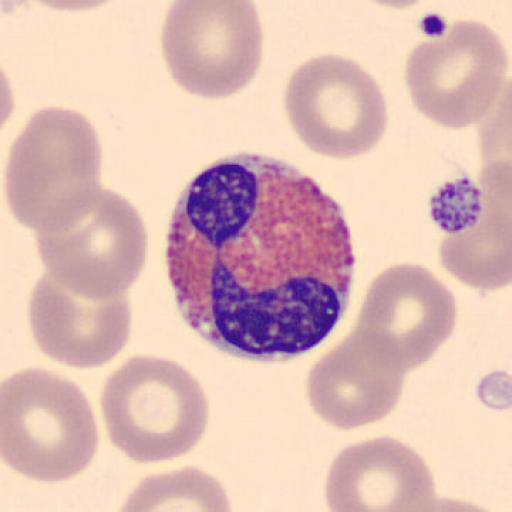Platelet: (425, 176, 484, 236)
RBC: (33, 182, 149, 300), (3, 104, 104, 232), (99, 352, 210, 466), (352, 260, 459, 373), (403, 18, 510, 130), (282, 51, 390, 161), (2, 366, 100, 486), (27, 266, 132, 370), (306, 328, 408, 431), (160, 1, 264, 101), (438, 158, 512, 292), (324, 434, 440, 511), (438, 212, 512, 292), (114, 464, 233, 512), (471, 154, 512, 290), (476, 86, 512, 216), (396, 493, 510, 512), (0, 62, 17, 134), (432, 495, 504, 512), (28, 1, 126, 12), (349, 0, 435, 10), (0, 0, 36, 21), (2, 0, 34, 16)
WBC: (164, 155, 359, 363)
